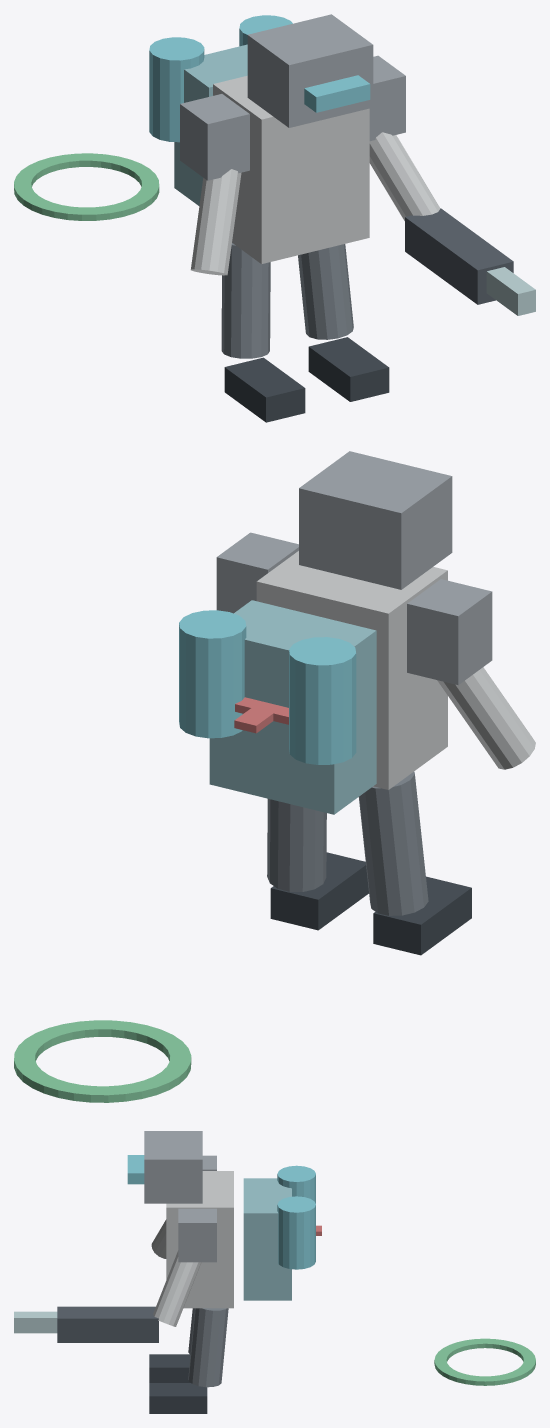
File: human_healer.glb
3 views of the same model, one above another, from view 1: azimuth 30°, elevation 25°; view 2: azimuth 150°, elevation 25°; view 3: azimuth 270°, elevation 25° (orthographic). The views are drawn at different scales.
Parts seen in each view (by area): view 1: torso, helmet, healing_tool, shoulder_-1, leg_-1, scanner_pulse, leg_1, backpack_emitter_-1, arm_-1, boot_-1, boot_1, arm_1 (+5 smaller); view 2: medical_backpack, helmet, torso, backpack_emitter_-1, backpack_emitter_1, shoulder_-1, leg_-1, scanner_pulse, leg_1, arm_-1, boot_-1, boot_1 (+2 smaller); view 3: torso, medical_backpack, helmet, healing_tool, backpack_emitter_1, leg_1, scanner_pulse, shoulder_1, boot_1, arm_1, boot_-1, backpack_emitter_-1 (+3 smaller).
Part boxes in pixels (<box>): torso: <box>213,75,369,264</box>; helmet: <box>247,14,373,127</box>; healing_tool: <box>405,208,513,304</box>; shoulder_-1: <box>180,94,249,180</box>; leg_-1: <box>221,243,270,358</box>; scanner_pulse: <box>14,153,159,220</box>; leg_1: <box>298,244,353,339</box>; backpack_emitter_-1: <box>149,37,204,142</box>; arm_-1: <box>190,169,241,275</box>; boot_-1: <box>224,357,305,422</box>; boot_1: <box>308,337,389,401</box>; arm_1: <box>369,132,440,220</box>; medical_backpack: <box>209,600,376,814</box>; helmet: <box>299,451,452,589</box>; torso: <box>256,551,447,789</box>; backpack_emitter_-1: <box>289,637,356,764</box>; backpack_emitter_1: <box>179,610,246,738</box>; shoulder_-1: <box>407,579,492,685</box>; leg_-1: <box>358,771,428,915</box>; scanner_pulse: <box>14,1020,191,1102</box>; leg_1: <box>267,798,326,891</box>; arm_-1: <box>437,667,535,769</box>; boot_-1: <box>373,876,471,955</box>; boot_1: <box>270,852,368,930</box>; torso: <box>166,1171,233,1308</box>; medical_backpack: <box>243,1178,291,1300</box>; helmet: <box>144,1131,202,1203</box>; healing_tool: <box>57,1306,158,1342</box>; backpack_emitter_1: <box>277,1196,315,1269</box>; leg_1: <box>188,1308,228,1387</box>; scanner_pulse: <box>434,1338,535,1385</box>; shoulder_1: <box>178,1208,216,1262</box>; boot_1: <box>149,1383,207,1413</box>; arm_1: <box>153,1250,201,1326</box>; boot_-1: <box>149,1354,190,1382</box>; backpack_emitter_-1: <box>277,1165,315,1203</box>.
Size of the model in its own units: 0.8203 by 1.13 by 2.16.
